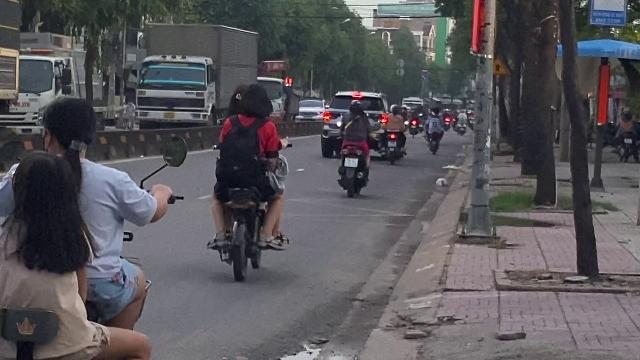motorcyclist: (1, 89, 176, 359), (204, 80, 292, 282)
nohelmet: (6, 148, 86, 254), (40, 94, 100, 154), (235, 84, 273, 120)
